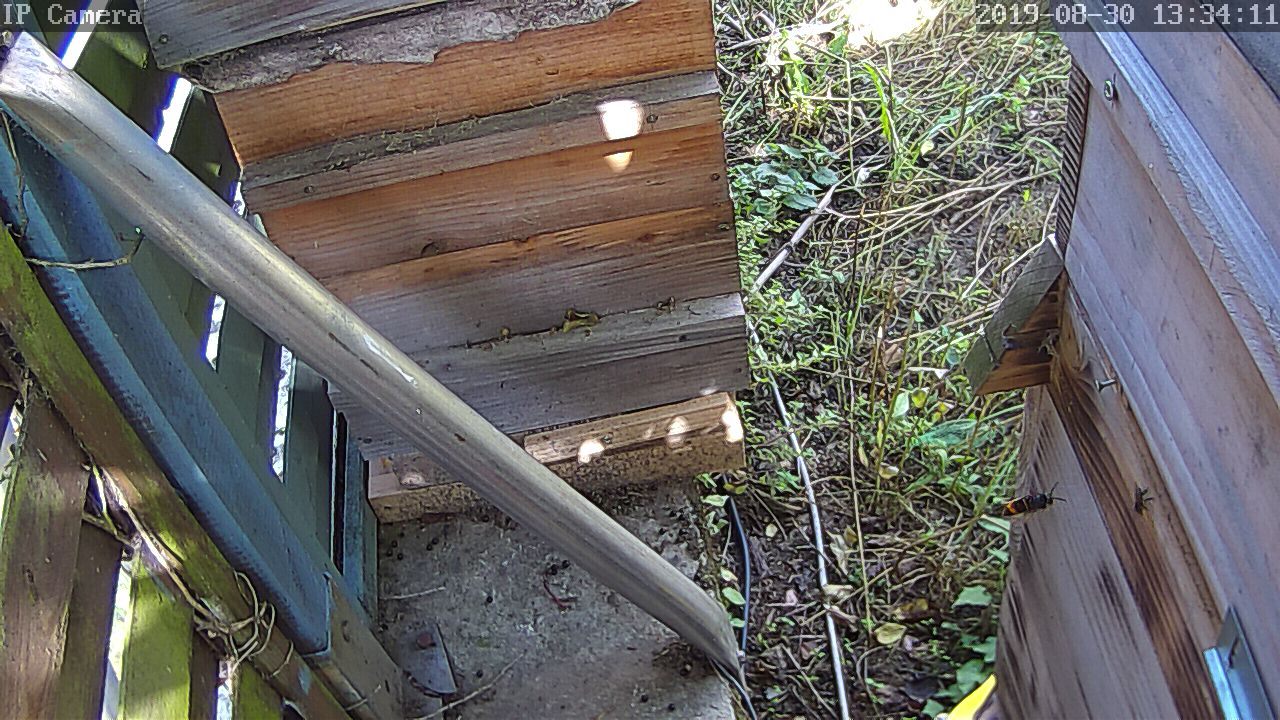bee: (1129, 483, 1151, 521)
hornet: (998, 486, 1063, 522)
